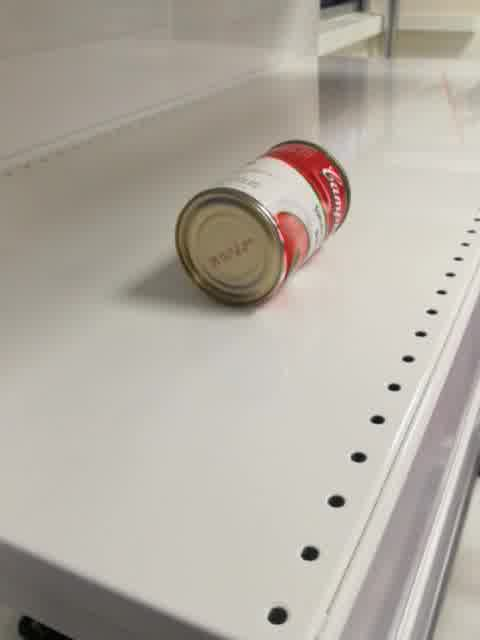tomatosoup: (173, 139, 351, 308)
